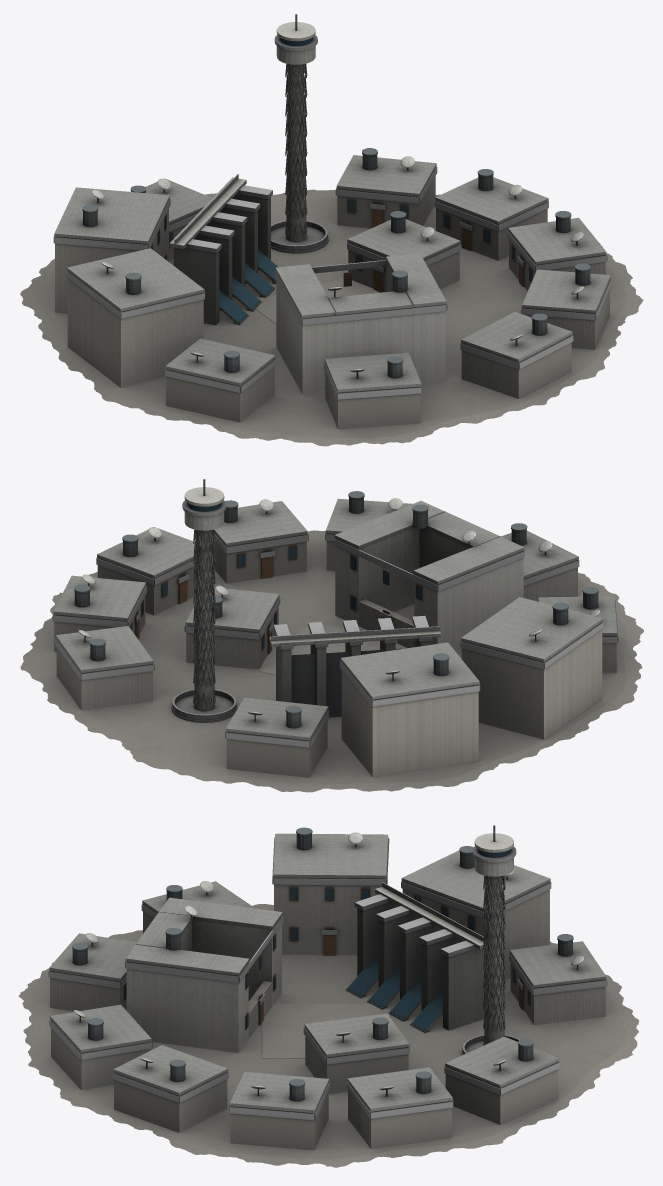
The model's file is modern-town-medium-b-nile.glb.
3 views of the same model, one above another, from view 1: azimuth 30°, elevation 25°; view 2: azimuth 150°, elevation 25°; view 3: azimuth 270°, elevation 25° (orthographic).
Visible parts, largest first — view 1: LOD0; view 2: LOD0; view 3: LOD0.
Boxes of the visible parts, x1,y1,x2,y2 form: LOD0: [20, 14, 643, 446]; LOD0: [20, 479, 643, 792]; LOD0: [18, 825, 639, 1167].
Size of what is drawn, in the model's own units: 5.97 by 2.4 by 5.96.
3 materials, 3 textured.
